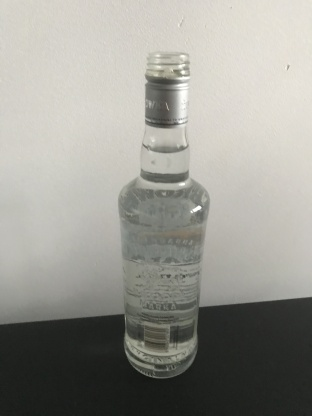nakretka: (143, 48, 191, 128)
